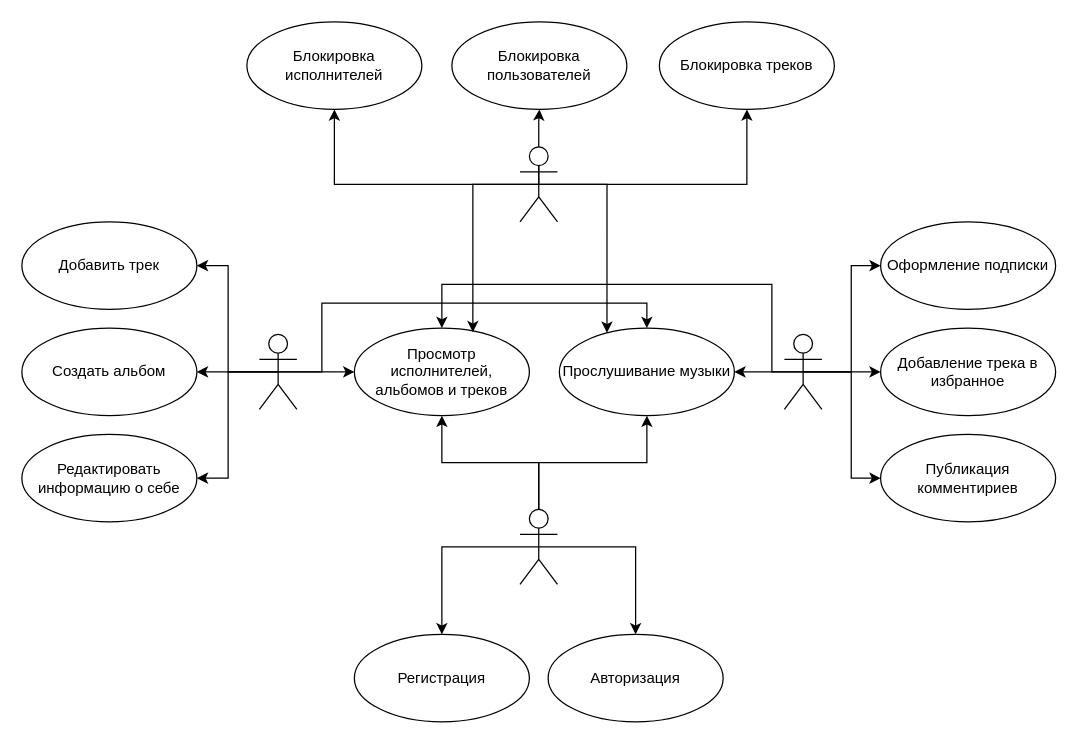
Some shapes in this 1078 by 744 pixel diagram are drawn without their labels. The centre of each missing label's shape, as x and y in pixels:
"Гость" goes at point (538, 546).
"Исполнитель" goes at point (277, 371).
"Модератор" goes at point (538, 184).
"Пользователь" goes at point (802, 371).
